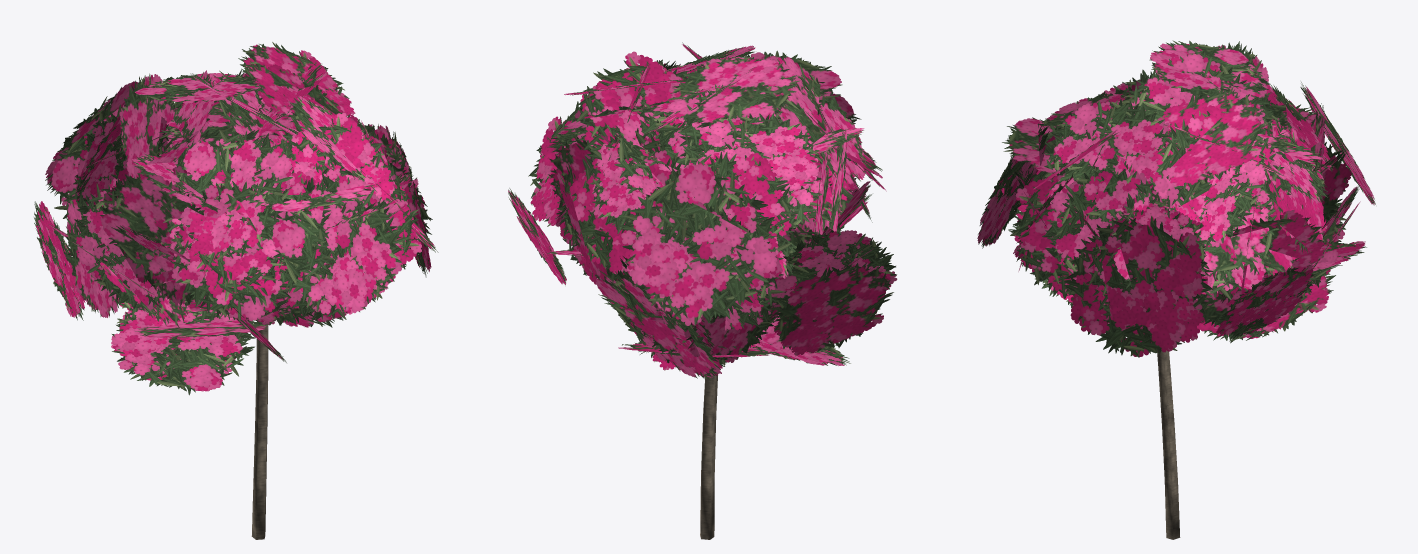
The model's file is SM_Morin_OleandroAlberello_Rosa_LOD2.fbx.
3 views of the same model, side by side, from view 1: azimuth 30°, elevation 25°; view 2: azimuth 150°, elevation 25°; view 3: azimuth 270°, elevation 25° (orthographic). The views are drawn at different scales.
Visible parts, largest first — view 1: SM_Morin_OleandroAlberello_Rosa_LOD2; view 2: SM_Morin_OleandroAlberello_Rosa_LOD2; view 3: SM_Morin_OleandroAlberello_Rosa_LOD2.
Part boxes in pixels (left/top/right/bottom): SM_Morin_OleandroAlberello_Rosa_LOD2: left=34, top=42, right=438, bottom=539; SM_Morin_OleandroAlberello_Rosa_LOD2: left=508, top=42, right=897, bottom=539; SM_Morin_OleandroAlberello_Rosa_LOD2: left=977, top=40, right=1375, bottom=539.
Size of the model in its own units: 360 by 362 by 437.
Materials: 2 (2 with a texture image).
